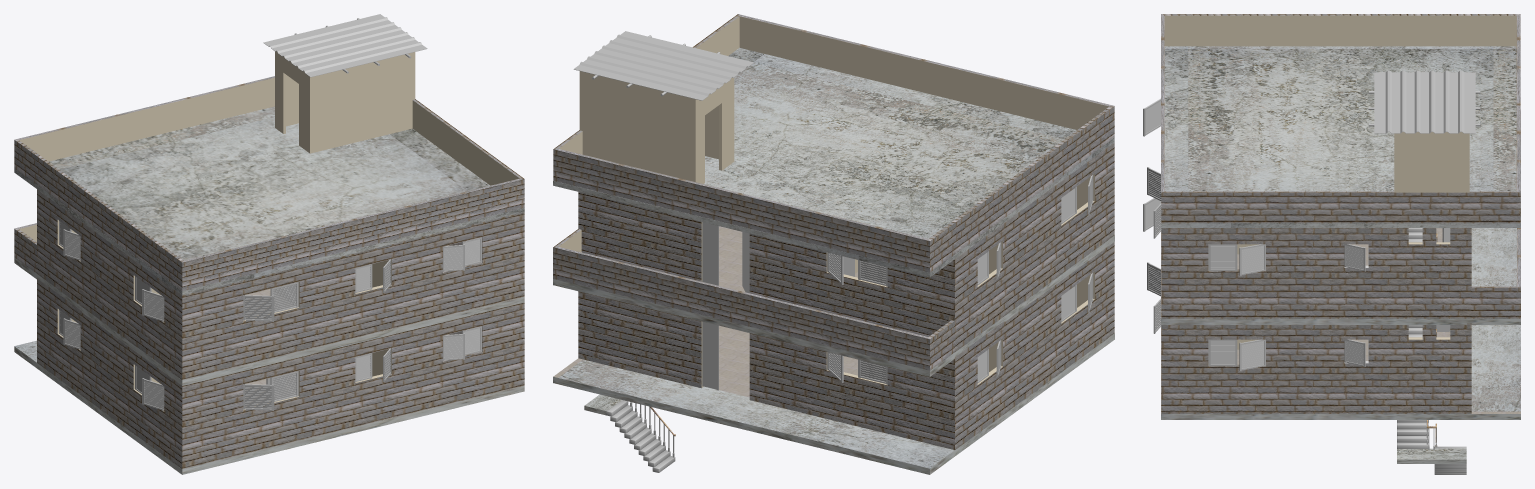
The model's file is InterriorHouseFinal.fbx.
3 views of the same model, side by side, from view 1: azimuth 30°, elevation 25°; view 2: azimuth 150°, elevation 25°; view 3: azimuth 270°, elevation 25° (orthographic). The views are drawn at different scales.
Parts seen in each view (by area): view 1: Cube.096, Cube.089, Cube.002, Cube.097, Cube.004, Cube.117, Cube.052, Cube.099, Plane.001, Cube.100, Cube.042, Cube.014 (+12 smaller); view 2: Cube.096, Cube.003, Cube.090, Cube.042, Cube.097, Cube.004, Cube.029, Cube.099, Cube.117, Cube.051, Plane.001, Cube.100 (+9 smaller); view 3: Cube.096, Cube.088, Cube.001, Cube.101, Cube.100, Cube.042, Plane.001, Cube.014, Cube.055, Cube.063, Cube.033, Cube.043 (+13 smaller).
Boxes of the visible parts, left/top/right/bottom form: Cube.096: left=14, top=106, right=524, bottom=295; Cube.089: left=182, top=212, right=524, bottom=379; Cube.002: left=182, top=302, right=524, bottom=468; Cube.097: left=37, top=189, right=182, bottom=379; Cube.004: left=37, top=278, right=182, bottom=468; Cube.117: left=182, top=178, right=524, bottom=290; Cube.052: left=310, top=52, right=415, bottom=153; Cube.099: left=15, top=76, right=274, bottom=161; Plane.001: left=263, top=14, right=427, bottom=77; Cube.100: left=14, top=139, right=183, bottom=290; Cube.042: left=14, top=334, right=524, bottom=474; Cube.014: left=14, top=245, right=524, bottom=385; Cube.096: left=553, top=47, right=1114, bottom=277; Cube.003: left=578, top=291, right=954, bottom=449; Cube.090: left=578, top=192, right=954, bottom=336; Cube.042: left=553, top=325, right=1114, bottom=474; Cube.097: left=955, top=142, right=1114, bottom=351; Cube.004: left=955, top=242, right=1114, bottom=449; Cube.029: left=553, top=246, right=929, bottom=370; Cube.099: left=553, top=148, right=929, bottom=272; Cube.117: left=738, top=14, right=1113, bottom=129; Cube.051: left=579, top=71, right=695, bottom=181; Plane.001: left=573, top=31, right=754, bottom=100; Cube.100: left=929, top=106, right=1114, bottom=272; Cube.096: left=1161, top=46, right=1520, bottom=227; Cube.088: left=1161, top=228, right=1471, bottom=318; Cube.001: left=1161, top=323, right=1471, bottom=413; Cube.101: left=1161, top=191, right=1520, bottom=223; Cube.100: left=1161, top=14, right=1519, bottom=46; Cube.042: left=1161, top=325, right=1520, bottom=419; Plane.001: left=1374, top=70, right=1475, bottom=133; Cube.014: left=1161, top=201, right=1520, bottom=324; Cube.055: left=1394, top=132, right=1469, bottom=192; Cube.063: left=1394, top=133, right=1469, bottom=192; Cube.033: left=1471, top=286, right=1520, bottom=318; Cube.043: left=1397, top=448, right=1466, bottom=463.
Size of the model in its own units: 1306 by 1231 by 1112.
